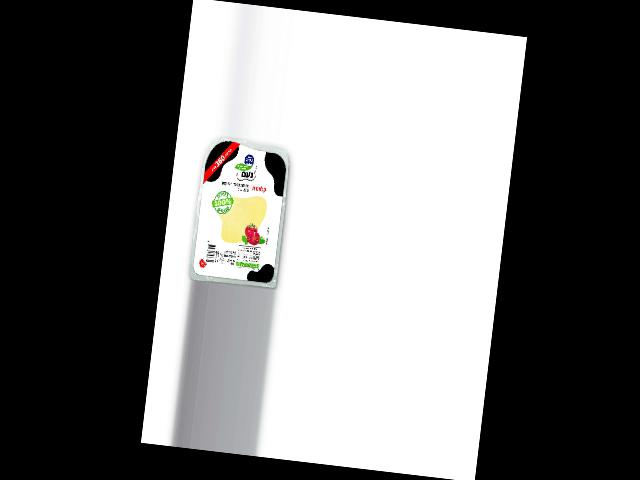cheese: (188, 133, 293, 289)
